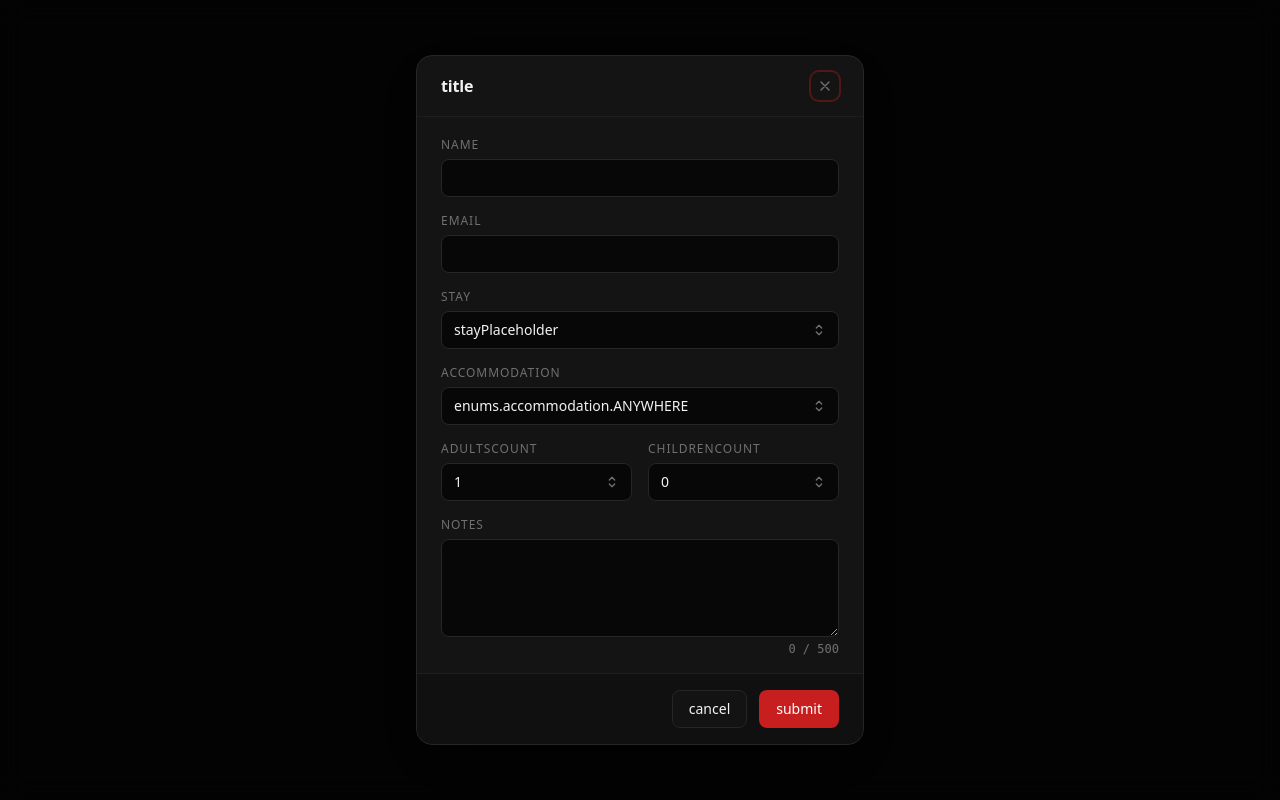
Test case: AddRegistrationModal › should display field-level errors returned by the server on 400
Step 1. Type "Alice Smith" into the field labelled "name" → (640, 178), box x1=441 y1=159 x2=839 y2=197
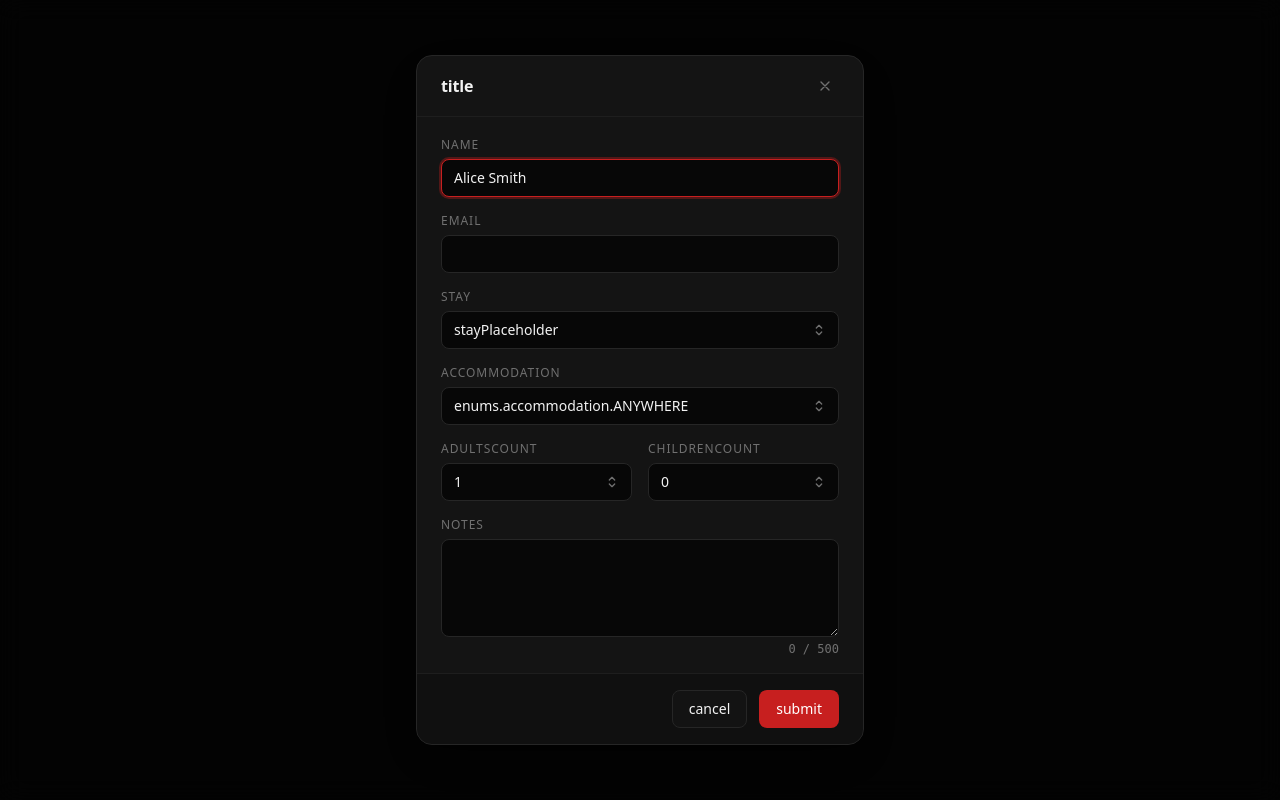
Step 2. Type "alice@example.com" into the field labelled "email" → (640, 254), box x1=441 y1=235 x2=839 y2=273
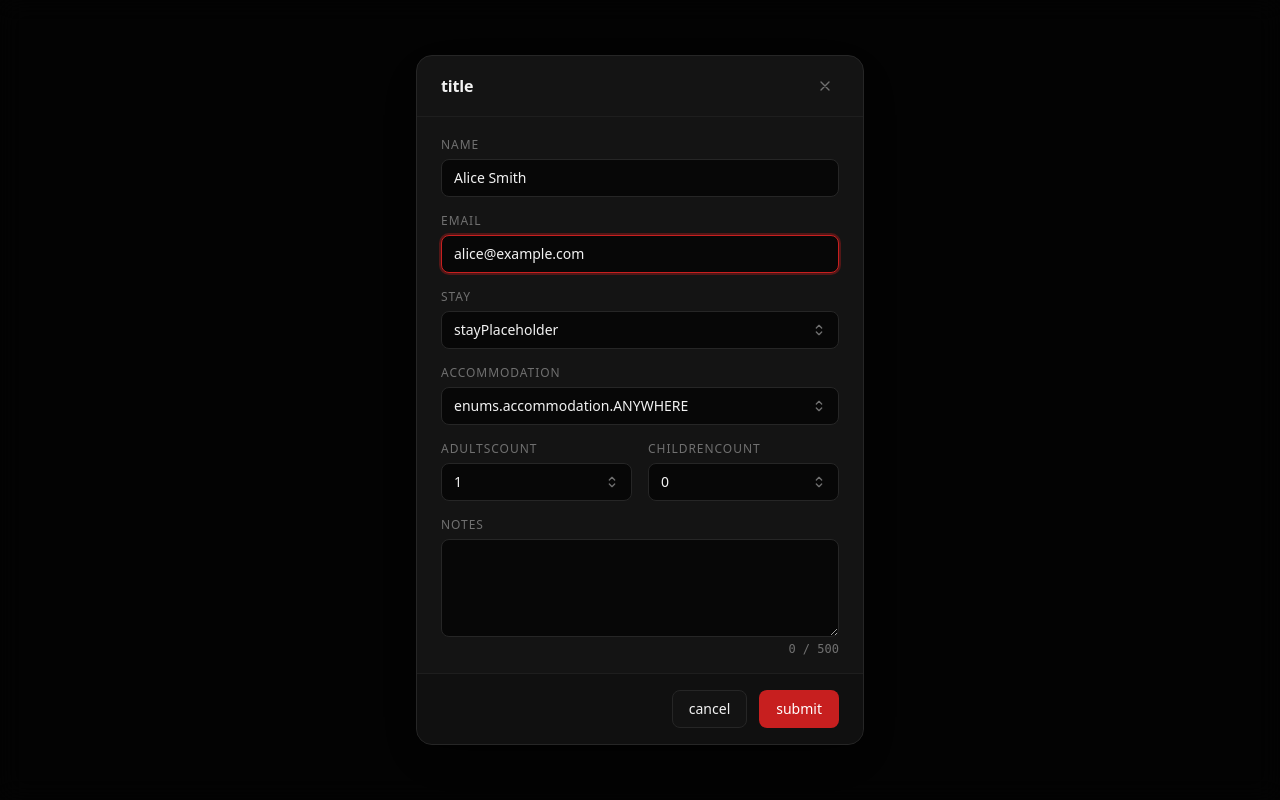
Step 3. Select "enums.stay.SAT_SUN" in the dropdown labelled "stay" → (640, 330), box x1=441 y1=311 x2=839 y2=349
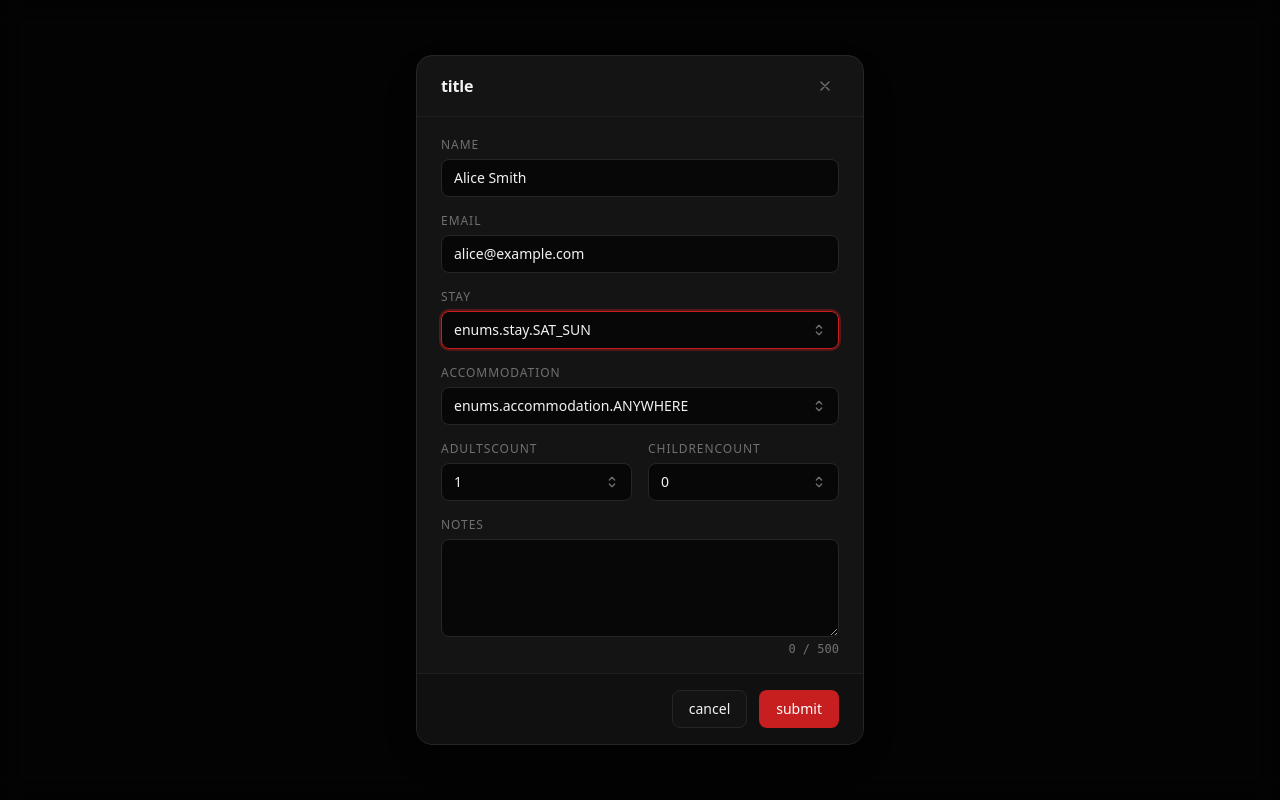
Step 4. Click the button "submit" → (799, 709), box x1=759 y1=690 x2=839 y2=728
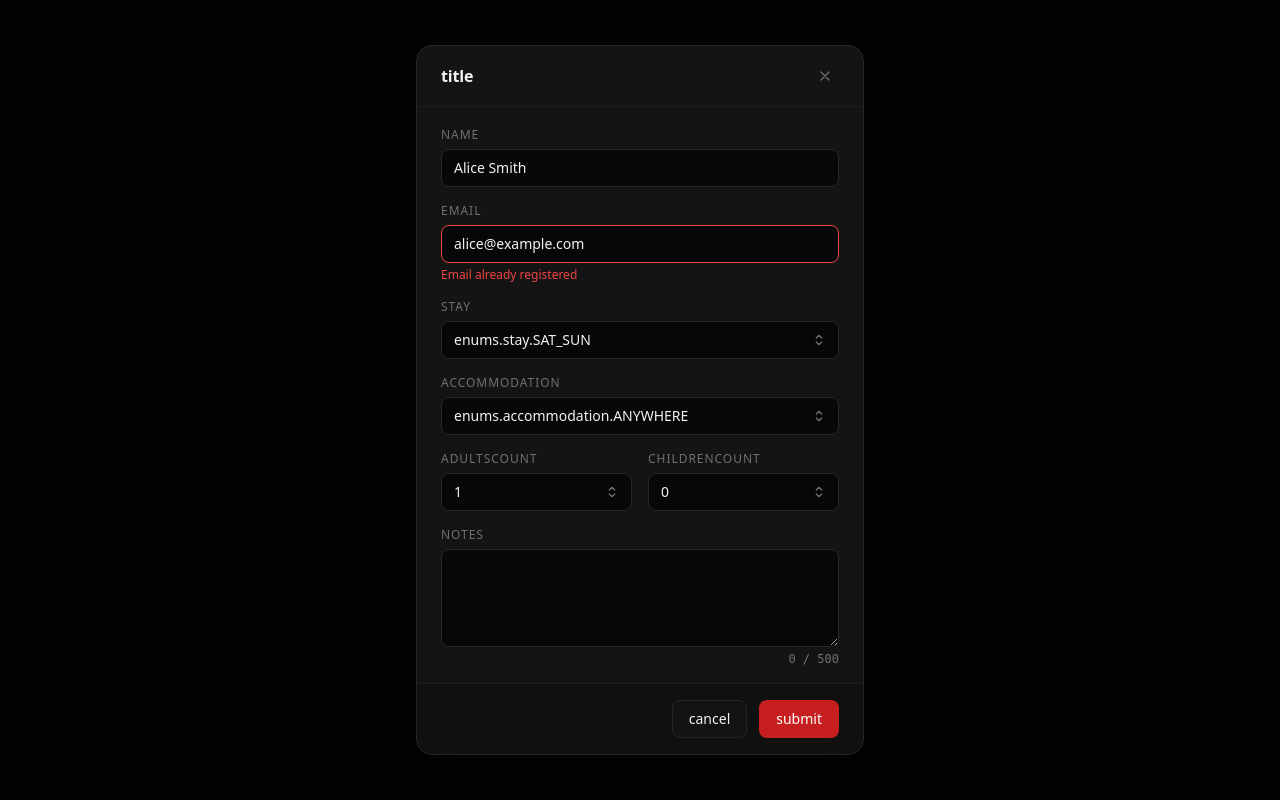
Result: the text "Email already registered" is shown at x1=441 y1=267 x2=577 y2=283
